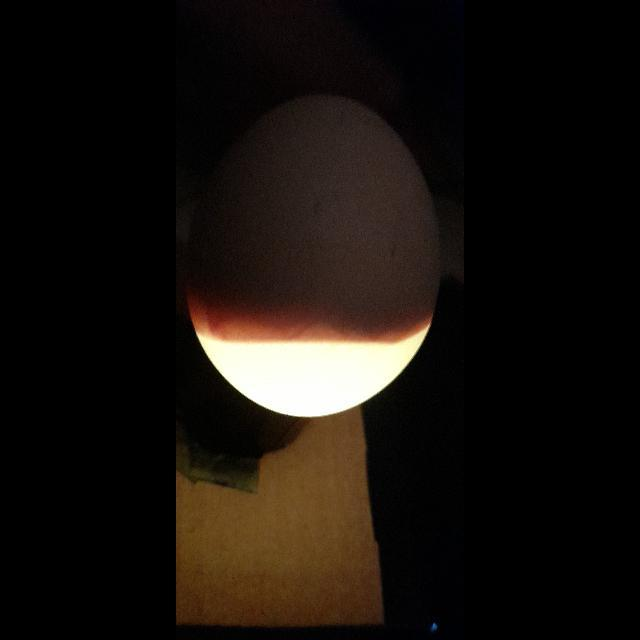Fertile: (190, 79, 436, 418)
